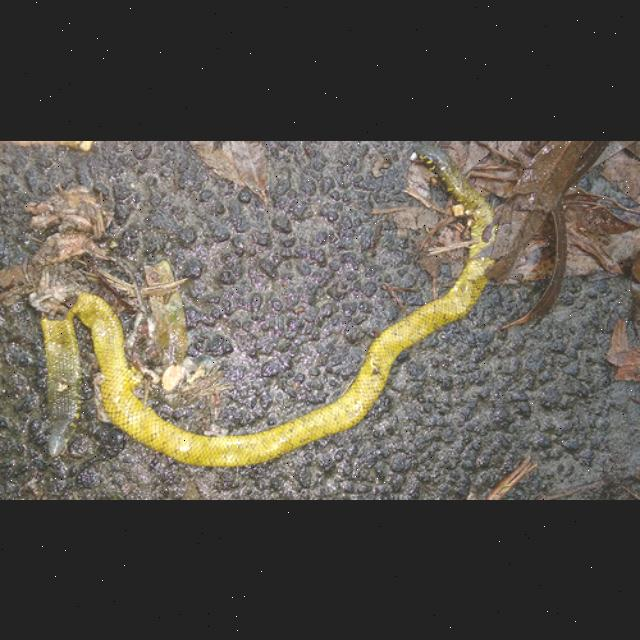snake: (34, 143, 502, 467)
